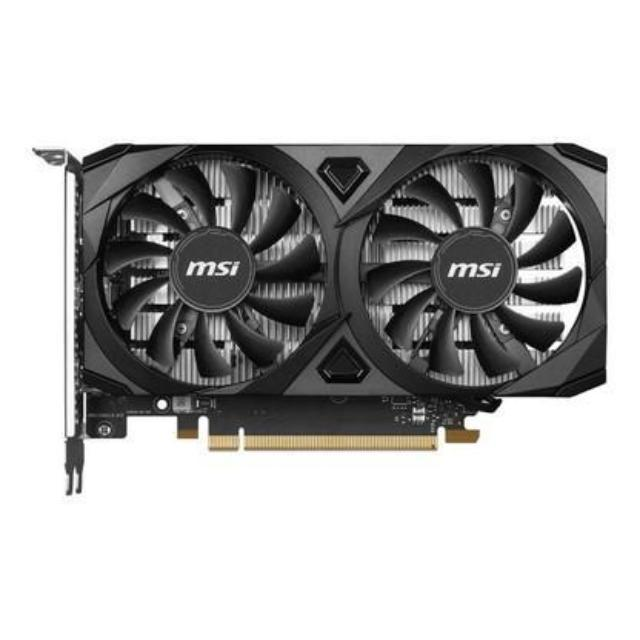GPU: (52, 132, 626, 474)
